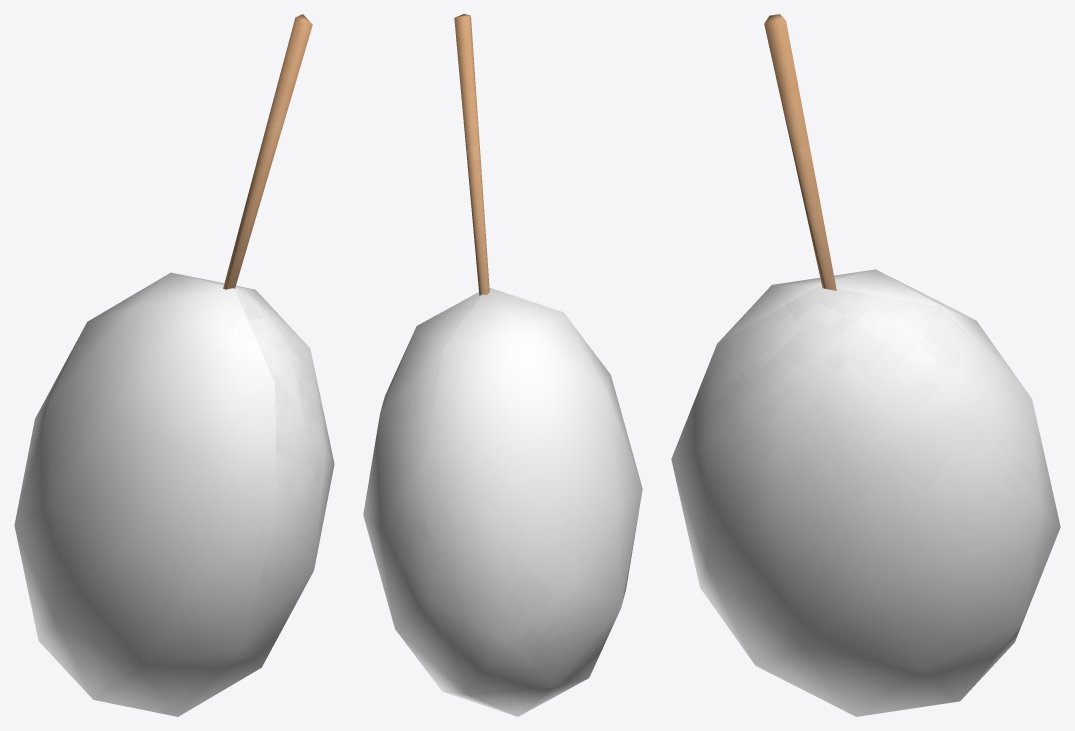
Rendered from H_CottonCandy.fbx.
3 renders of one model, left to right at view 1: azimuth 30°, elevation 25°; view 2: azimuth 150°, elevation 25°; view 3: azimuth 270°, elevation 25°, orthographic. The views are drawn at different scales.
Parts seen in each view (by area): view 1: CottonCandy; view 2: CottonCandy; view 3: CottonCandy.
Boxes of the visible parts, x1,y1,x2,y2 form: CottonCandy: (14,14,334,716); CottonCandy: (363,14,642,716); CottonCandy: (671,14,1060,716).
Bounding box in the file's own units: 19.87 × 53.1 × 25.03.
